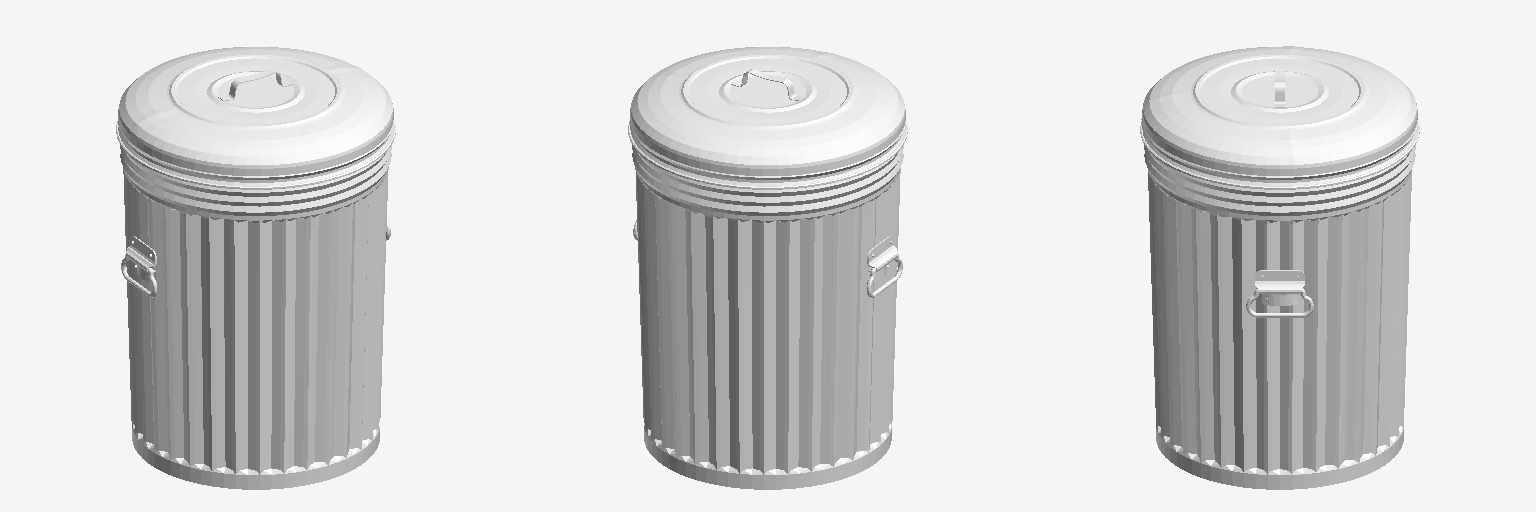
The model's file is trashcan.obj.
3 views of the same model, side by side, from view 1: azimuth 30°, elevation 25°; view 2: azimuth 150°, elevation 25°; view 3: azimuth 270°, elevation 25° (orthographic).
Parts seen in each view (by area): view 1: trashcan, lid; view 2: trashcan, lid; view 3: trashcan, lid.
Boxes of the visible parts, box(x1,y1,x2,y2) form: trashcan: box(120, 145, 391, 489); lid: box(116, 47, 395, 189); trashcan: box(632, 145, 903, 489); lid: box(628, 47, 907, 189); trashcan: box(1144, 145, 1415, 489); lid: box(1140, 46, 1419, 189).
Bounding box in the file's own units: 45.96 × 65.79 × 45.96.